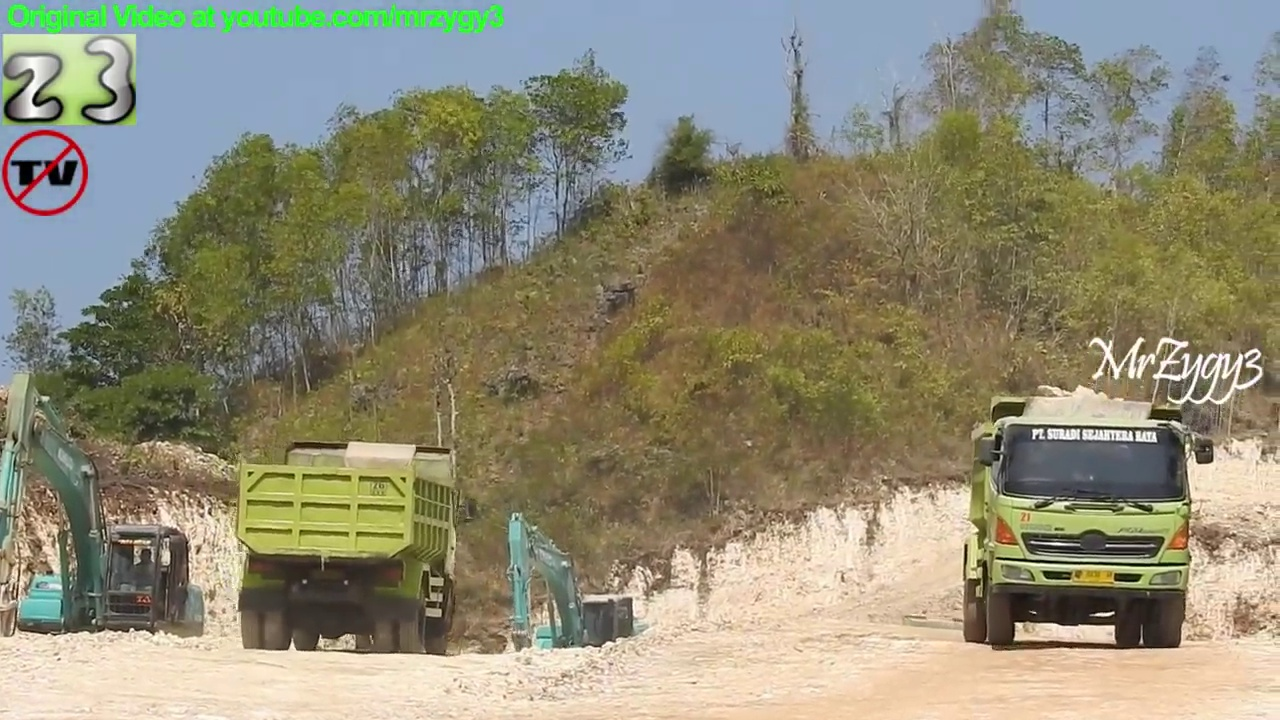excavator: (2, 371, 209, 672), (498, 507, 655, 696)
truck: (962, 382, 1220, 654), (231, 437, 482, 659)
